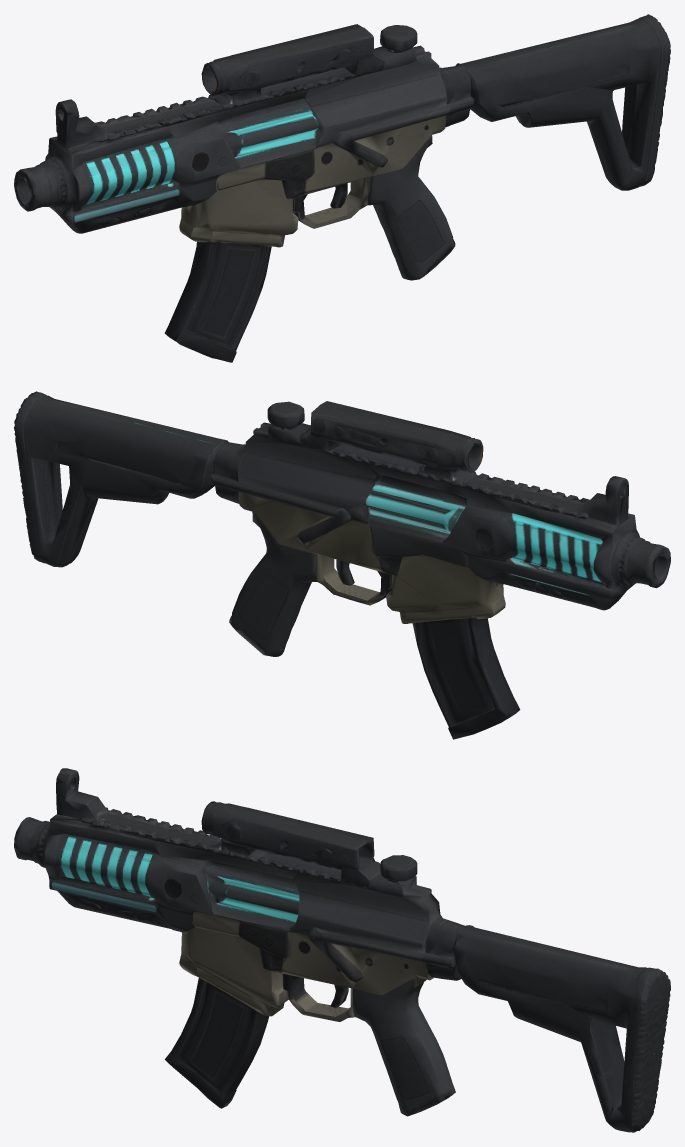
Rendered from assault-rifle.glb.
The picture shows the model from 3 angles, top to bottom: view 1: azimuth 30°, elevation 25°; view 2: azimuth 150°, elevation 25°; view 3: azimuth 330°, elevation 25°; orthographic projection.
Visible parts, largest first — view 1: Mesh_0; view 2: Mesh_0; view 3: Mesh_0.
Boxes of the visible parts, left/top/right/bottom form: Mesh_0: left=14, top=14, right=670, bottom=362; Mesh_0: left=14, top=391, right=670, bottom=739; Mesh_0: left=14, top=768, right=670, bottom=1132.
Size of the model in its own units: 0.85 by 0.3841 by 0.0818.
1 material, 1 textured.
